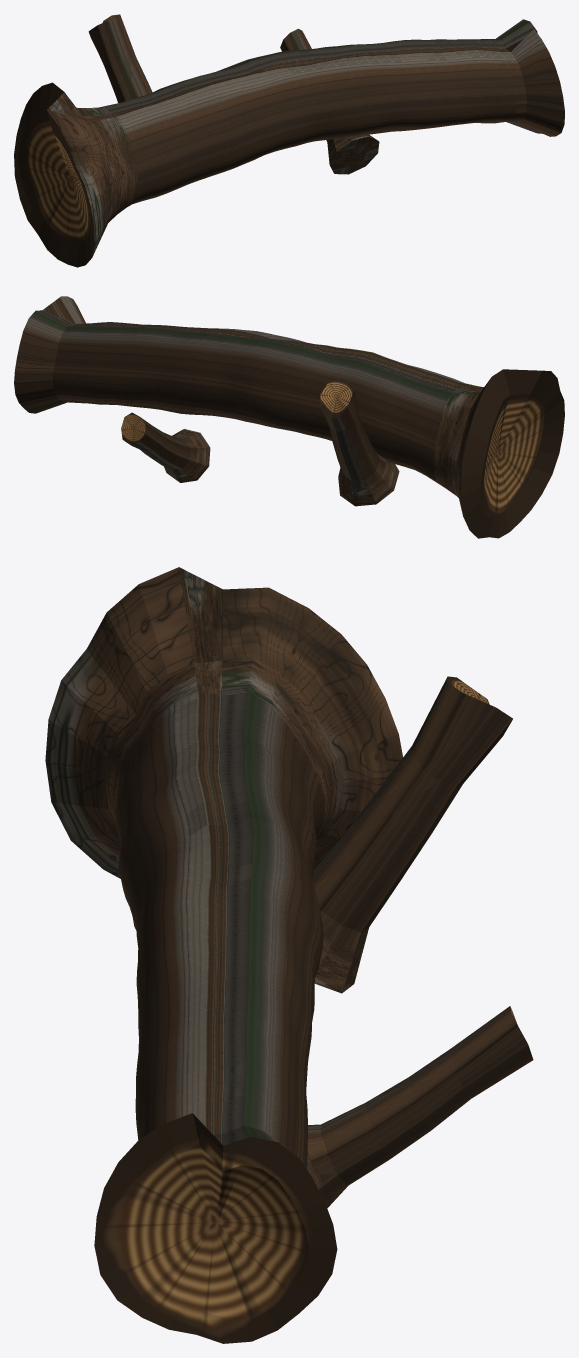
File: Totholz_1.fbx
3 views of the same model, one above another, from view 1: azimuth 30°, elevation 25°; view 2: azimuth 150°, elevation 25°; view 3: azimuth 270°, elevation 25° (orthographic). The views are drawn at different scales.
Parts seen in each view (by area): view 1: Totholz_1; view 2: Totholz_1; view 3: Totholz_1.
Boxes of the visible parts, left/top/right/bottom form: Totholz_1: left=14, top=14, right=564, bottom=267; Totholz_1: left=14, top=296, right=564, bottom=538; Totholz_1: left=45, top=567, right=533, bottom=1343.
Size of the model in its own units: 1.69 by 0.5793 by 0.7299.
